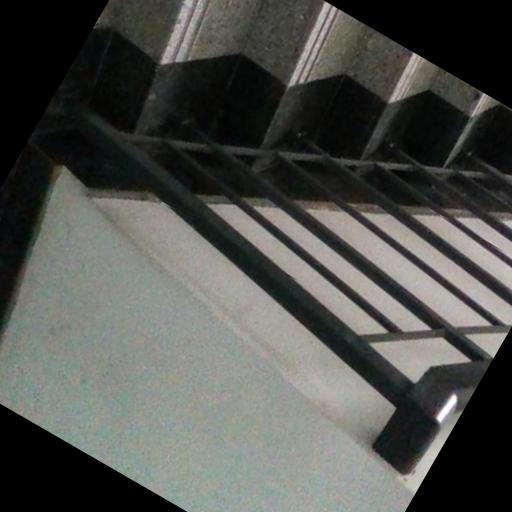stairs: (94, 0, 511, 171)
